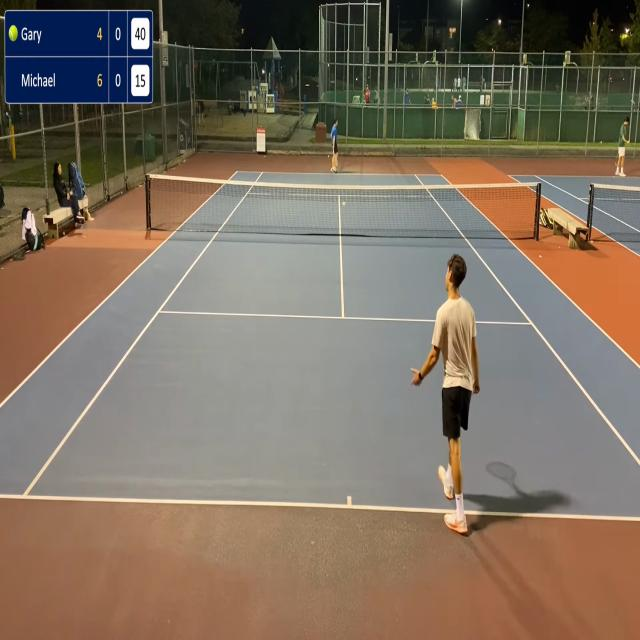ball: (341, 200, 346, 208), (328, 154, 330, 158)
